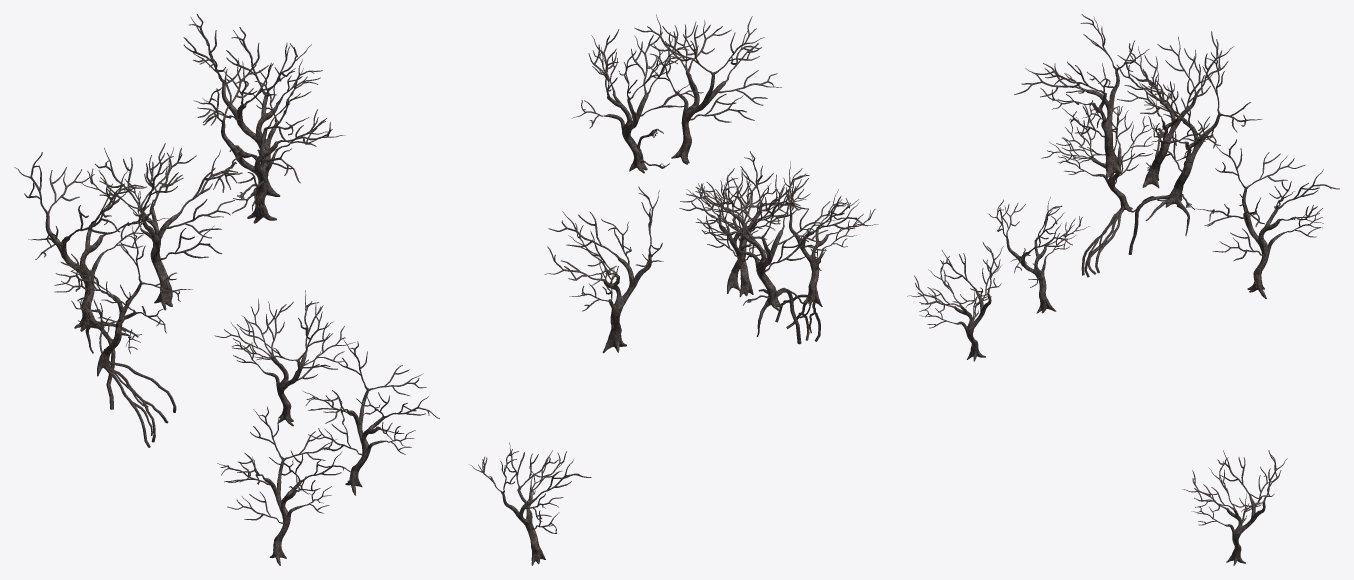
File: ftree.fbx
3 views of the same model, side by side, from view 1: azimuth 30°, elevation 25°; view 2: azimuth 150°, elevation 25°; view 3: azimuth 270°, elevation 25° (orthographic). The views are drawn at different scales.
Visible parts, largest first — view 1: ftree_Mesh_001; view 2: ftree_Mesh_001; view 3: ftree_Mesh_001.
Boxes of the visible parts, left/top/right/bottom form: ftree_Mesh_001: left=14, top=14, right=439, bottom=565; ftree_Mesh_001: left=469, top=14, right=878, bottom=565; ftree_Mesh_001: left=907, top=14, right=1339, bottom=565.
Size of the model in its own units: 2899 by 4434 by 3526.
